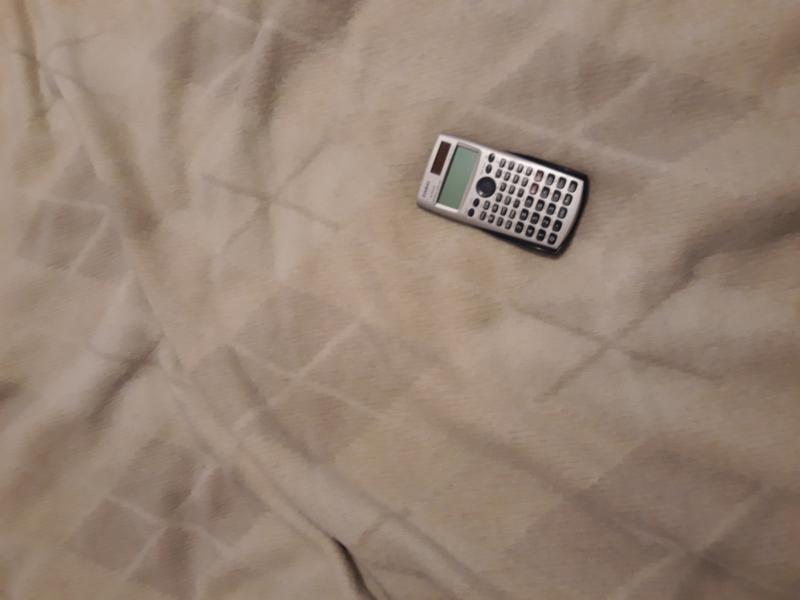CASIO_fx_991ES: (400, 119, 601, 271)
